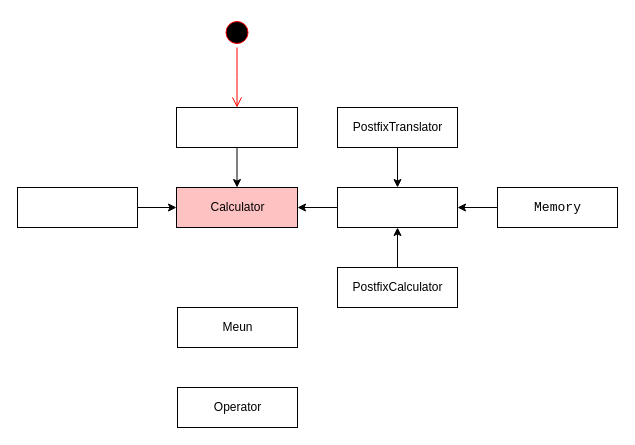
Image size: 635x445. Some labels were removed from this diagram. The shapes that lost their labels are listed below. From the top down, each one's centre as x and y in pixels, then its label:
At pixel 237 127: "App".
At pixel 77 207: "Console".
At pixel 397 207: "Processing".
